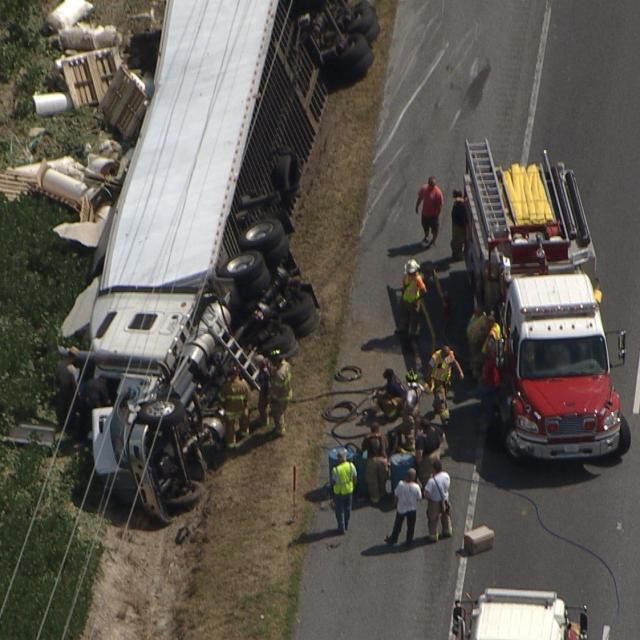traffic_incident: (43, 2, 314, 525)
